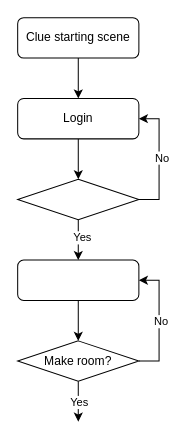
Image size: 186x447. Some labels were removed from this diagram. The centre of each missing label's shape, as x and y in pixels:
Home scene: (78,279)
Valid?: (78,199)
